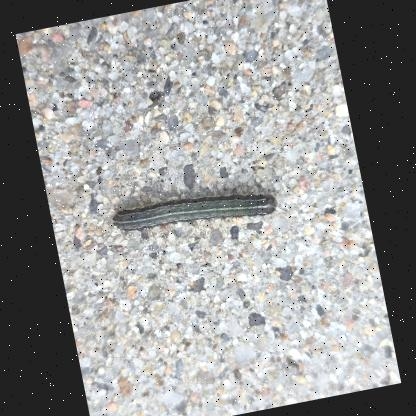Fall Armyworm Larvae: (105, 172, 284, 250)
